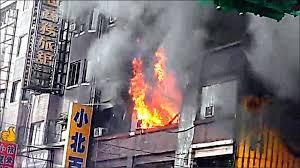fire: (127, 49, 182, 128)
